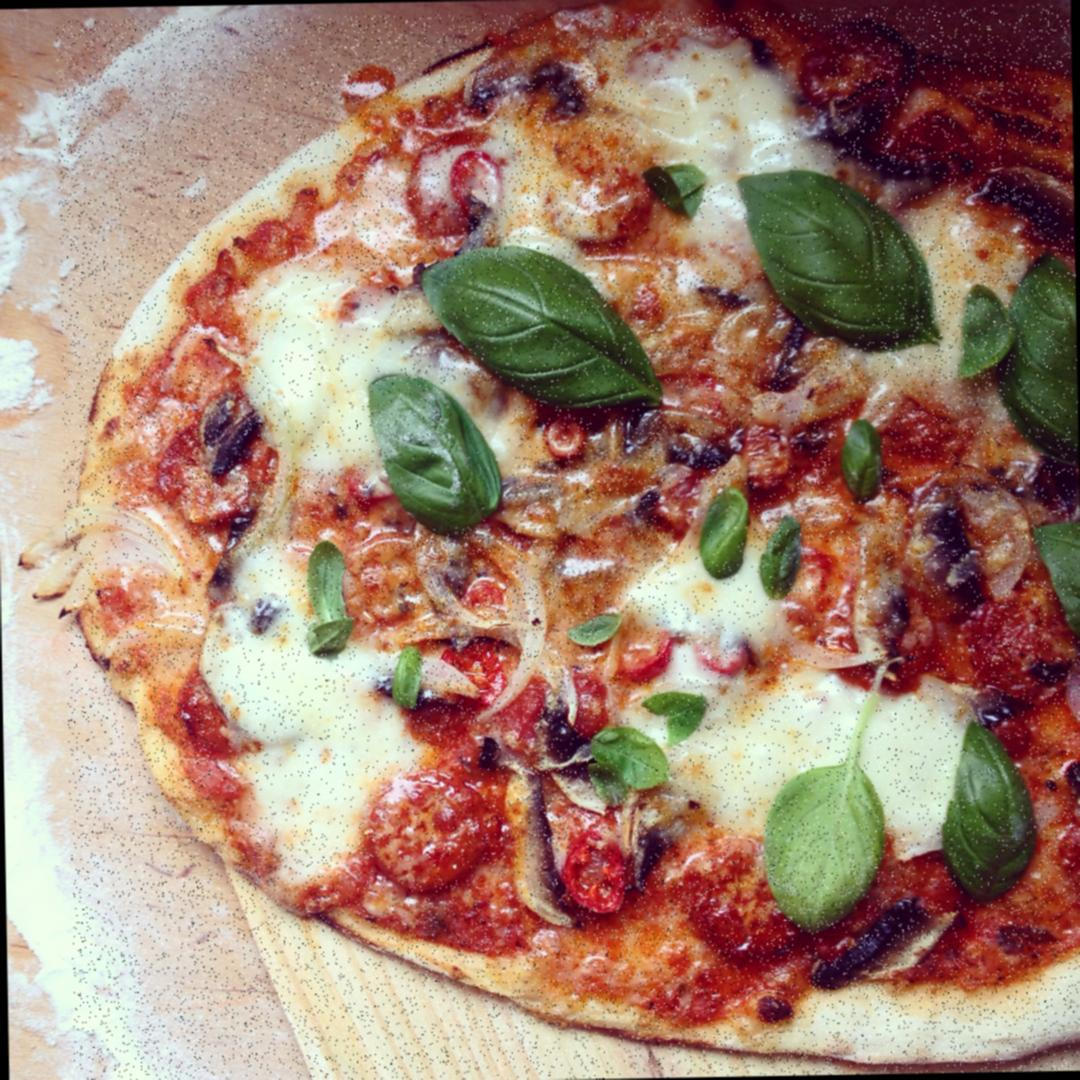Basil: (415, 236, 663, 423), (740, 163, 948, 343), (743, 691, 906, 902), (916, 702, 1041, 902), (975, 252, 1079, 469), (368, 384, 515, 530), (586, 686, 705, 792), (306, 544, 371, 650), (680, 482, 756, 572), (1045, 513, 1080, 635), (836, 420, 882, 500), (754, 518, 802, 594)
Cheese: (650, 553, 975, 851), (209, 551, 415, 847), (632, 35, 836, 270), (250, 270, 454, 466), (871, 208, 1035, 411)
Onion: (410, 532, 560, 712), (926, 452, 1030, 636), (67, 509, 192, 610)
Pizza: (56, 3, 1080, 1080)
Tomatoes: (367, 762, 498, 904), (563, 816, 636, 934), (438, 134, 510, 212), (596, 613, 686, 673), (734, 414, 788, 498), (691, 624, 768, 680), (534, 424, 594, 468)
